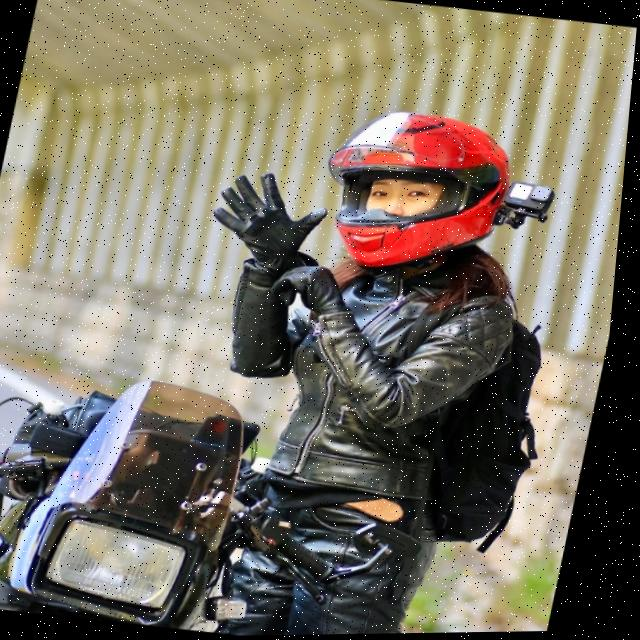helmet: (302, 97, 528, 290)
